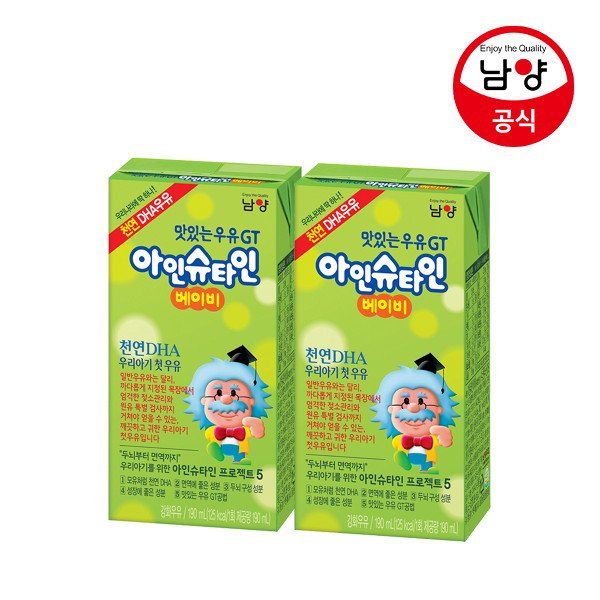milk: (109, 157, 488, 543)
